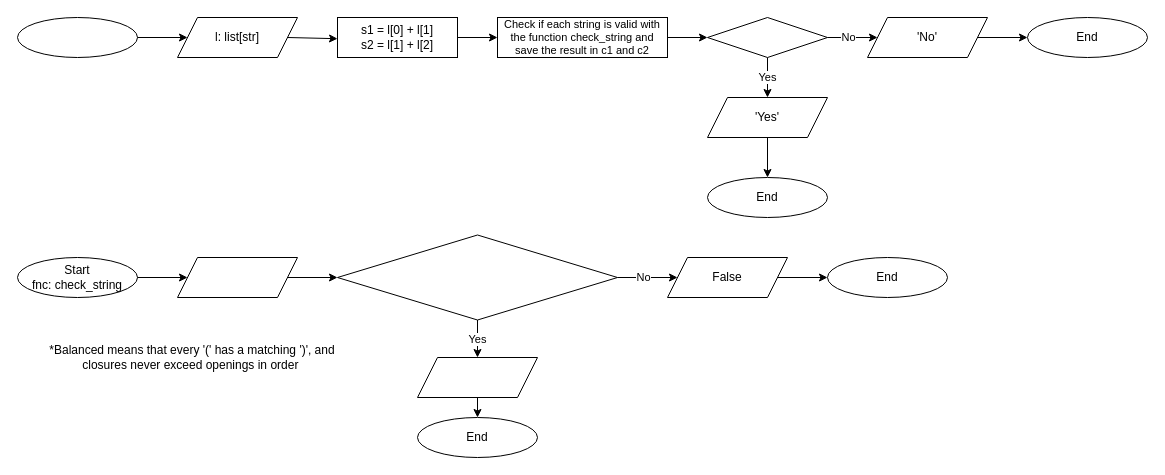
This 1165x475 diagram has some shape labels left out. The shapes that lost their labels are listed below. From the top down, each one's centre as x and y in pixels, then its label:
At point (77, 37): "Start".
At point (767, 37): "c1 or c2".
At point (237, 277): "s: str".
At point (477, 277): "Check if the string, composed by rounded parentheses is balanced*".
At point (477, 377): "True".
